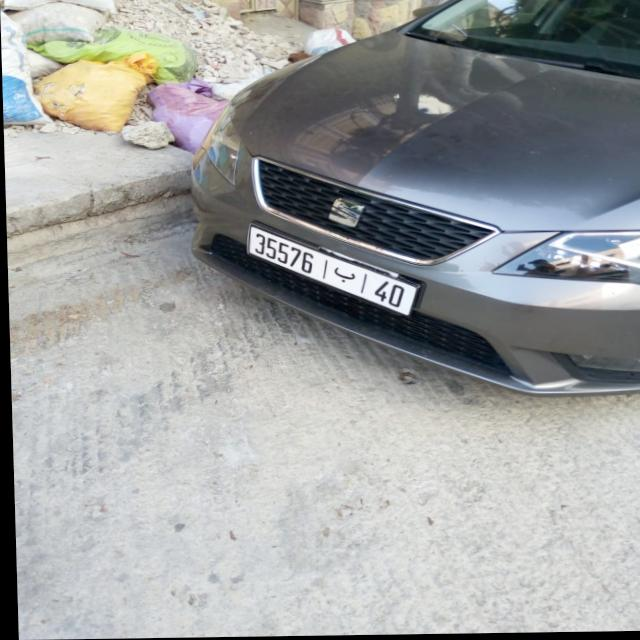License-Plate: (246, 226, 415, 317)
